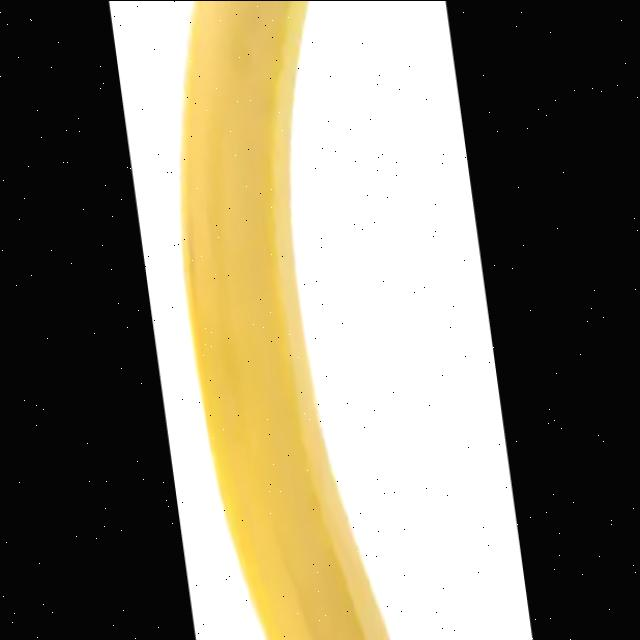banana: (180, 2, 392, 640)
